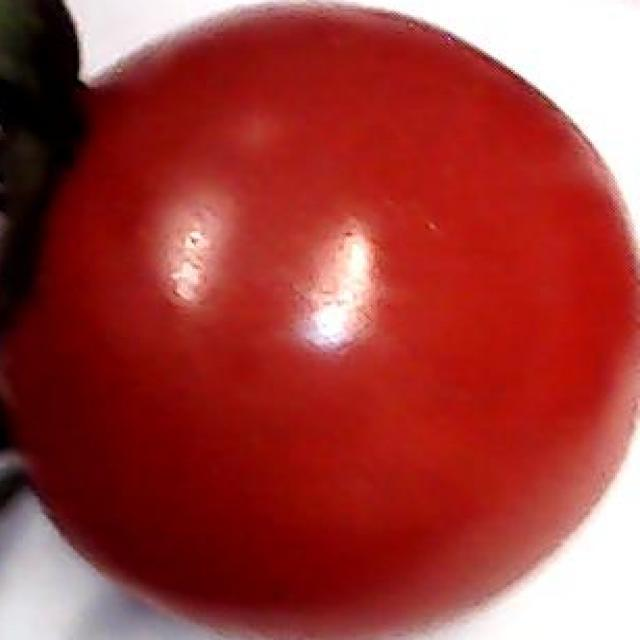Healthy: (55, 5, 639, 640)
